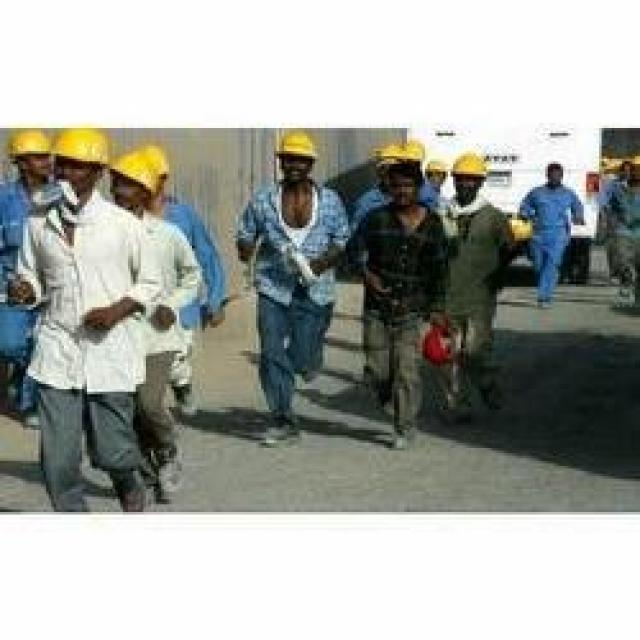safety_helmet: (105, 138, 179, 202), (48, 120, 117, 176), (366, 130, 432, 174), (263, 123, 325, 169), (0, 122, 54, 166), (448, 143, 496, 186)
